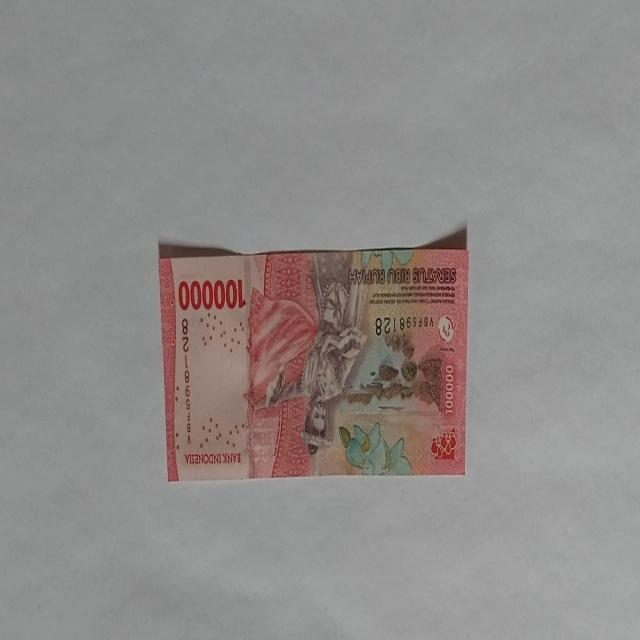seratus ribu rupiah: (158, 246, 468, 481), (244, 255, 368, 476)
